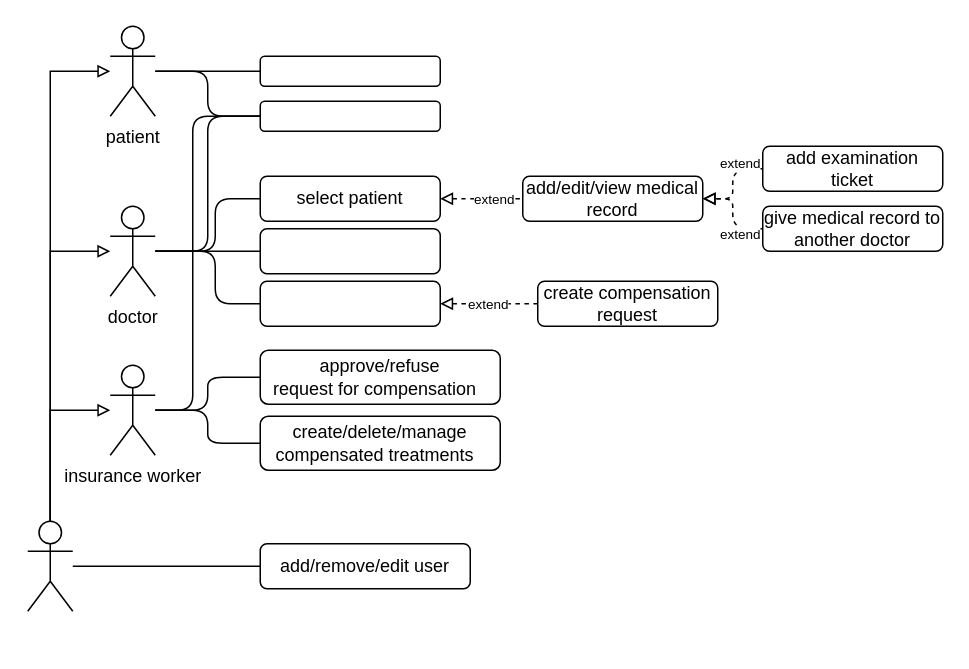
This 969x669 diagram has some shape labels left out. Here are the shapes that lost their labels. From the top down, the box of each, then its label:
(259, 55, 440, 86): view medical records
(259, 100, 440, 131): edit profile
(259, 227, 440, 274): register patient
(259, 280, 440, 326): edit examination ticket
(26, 520, 73, 611): admin
